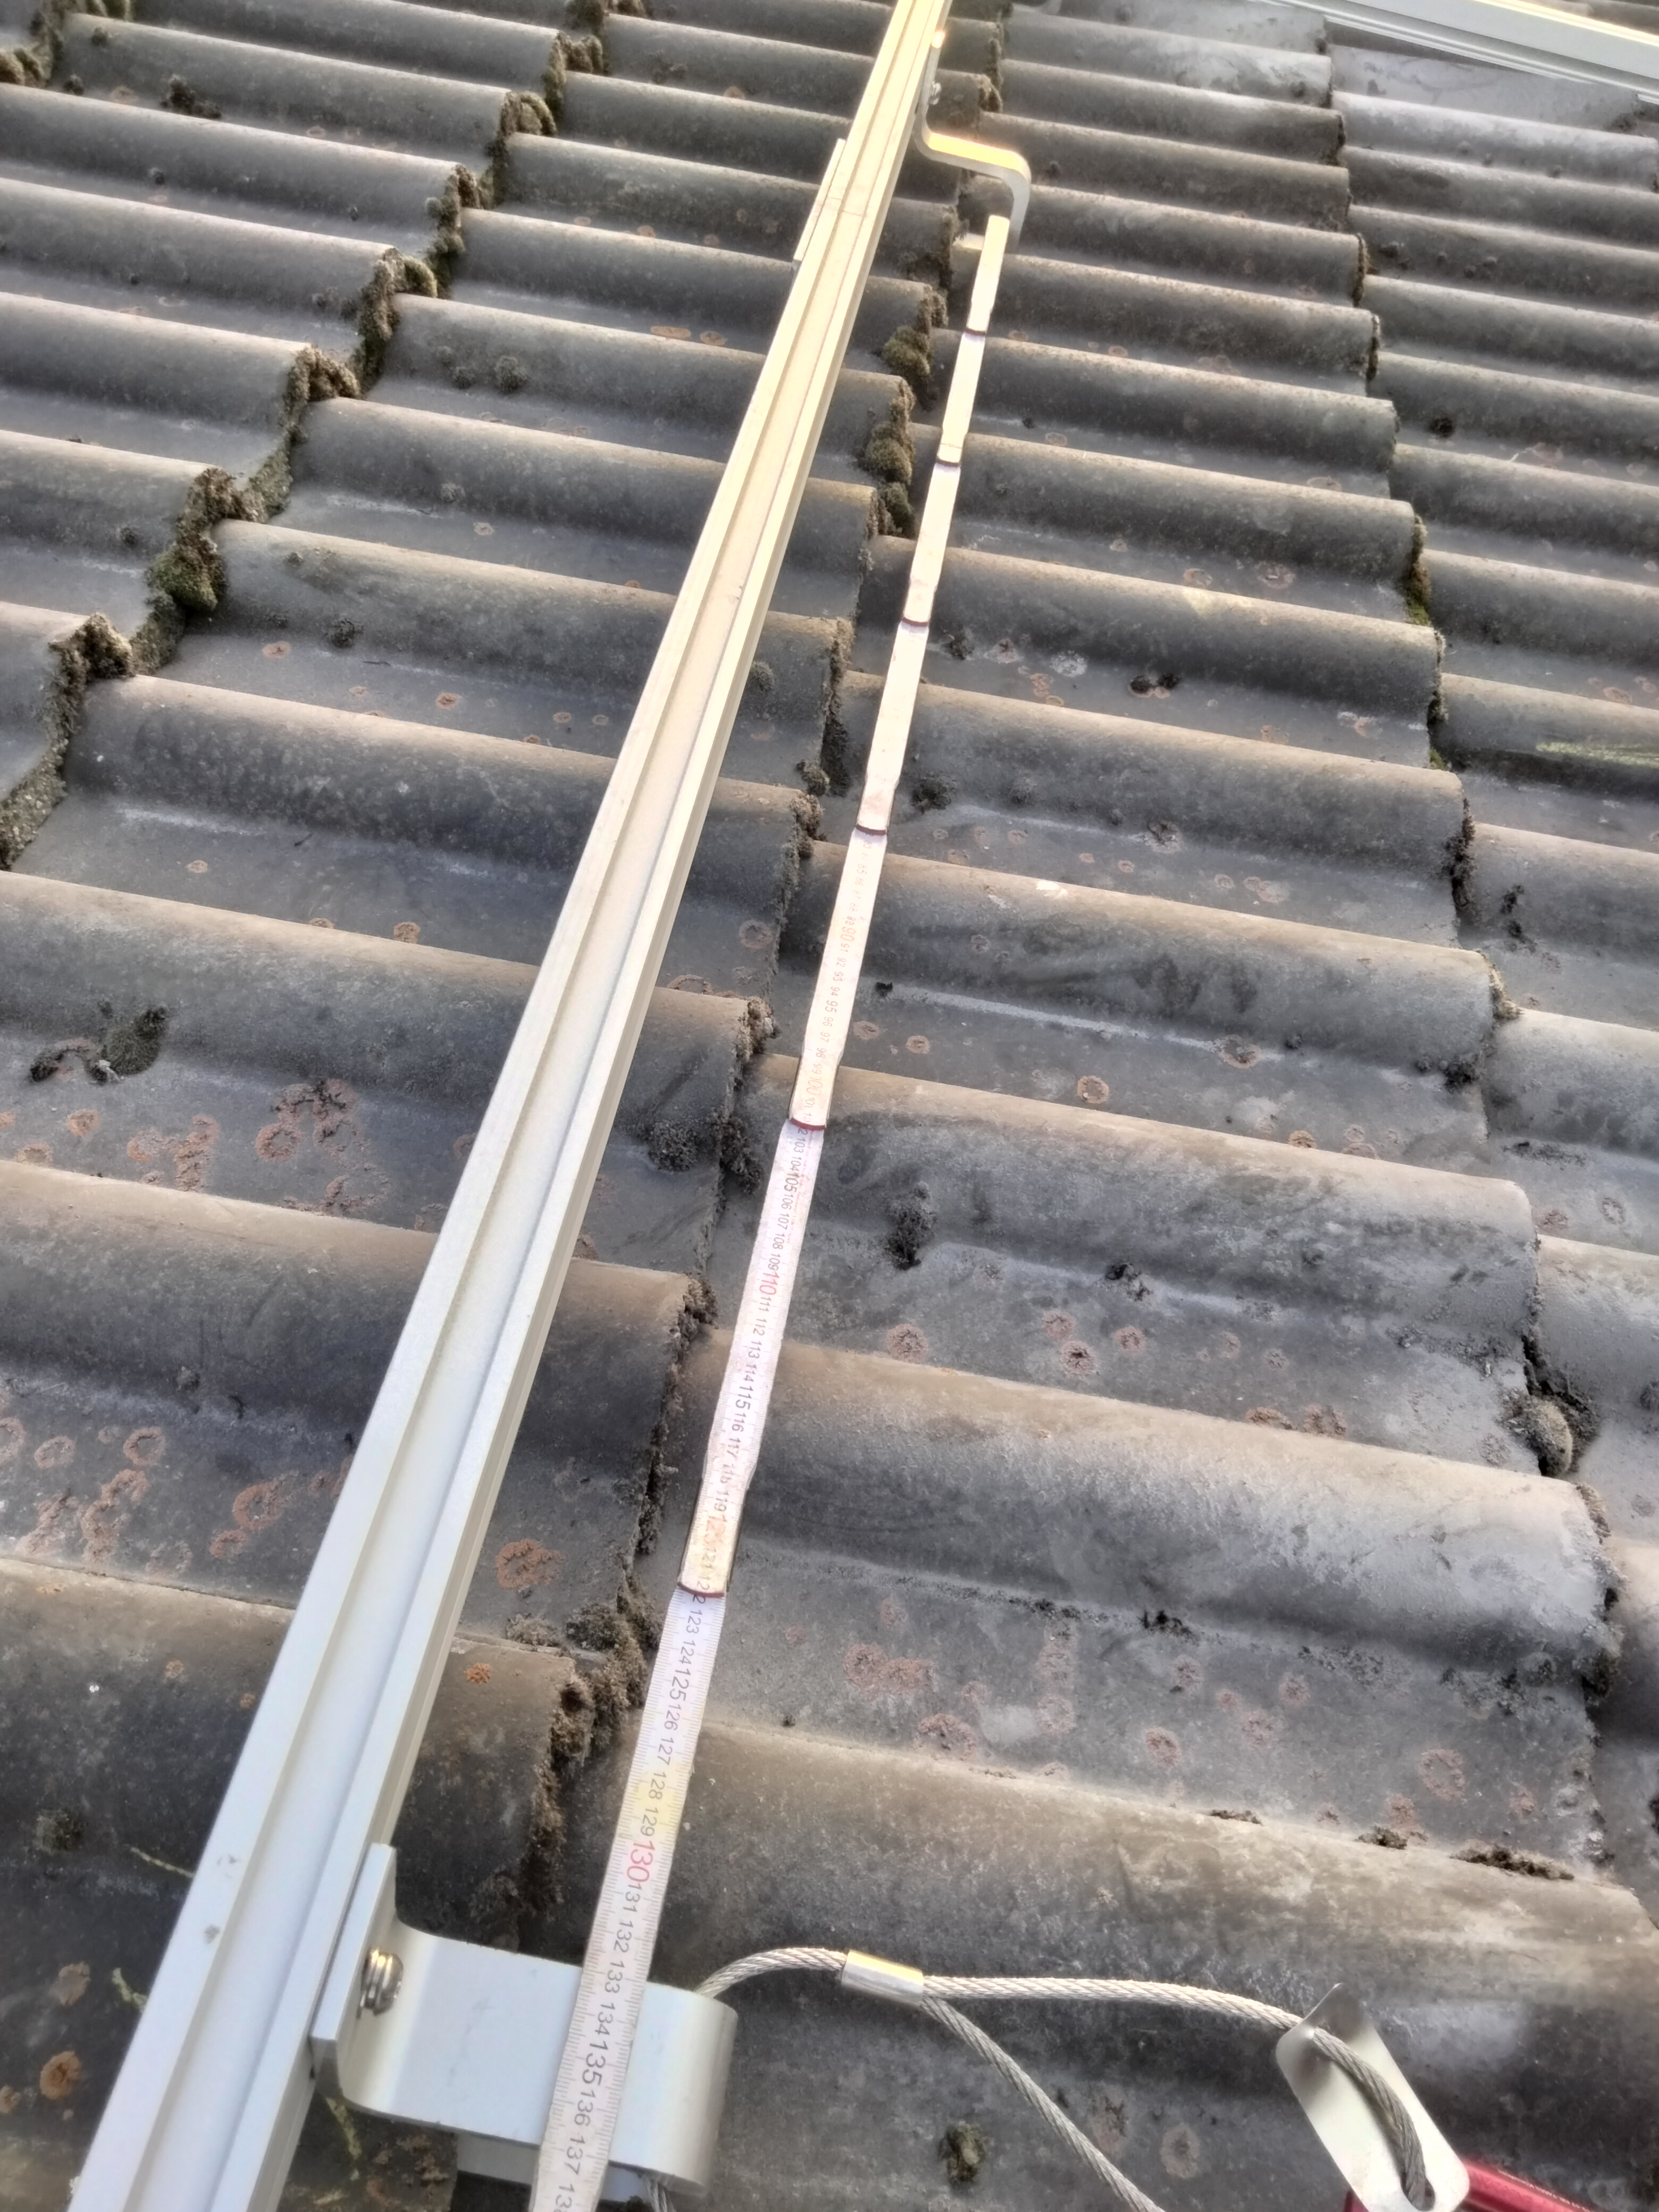hook: (307, 1841, 737, 2193), (913, 31, 1032, 246)
